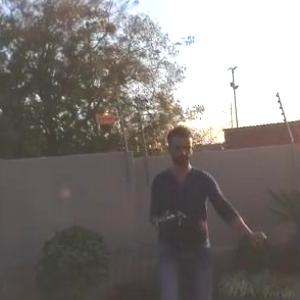follow: (140, 119, 270, 299)
